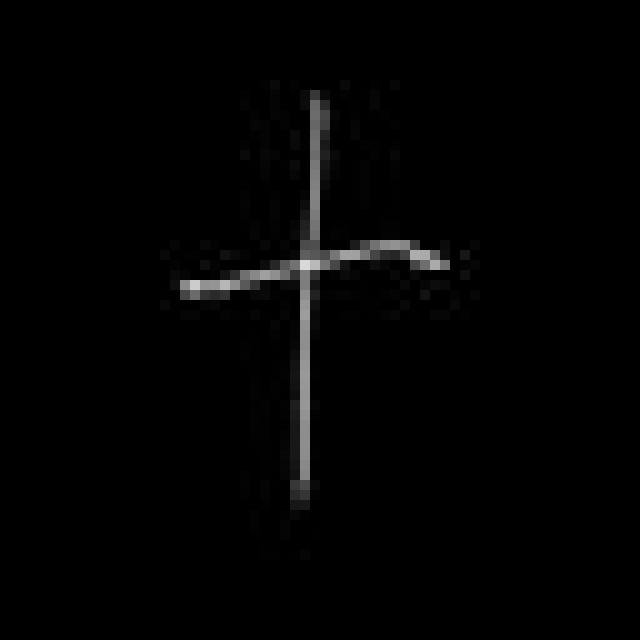10 -ten-: (161, 87, 461, 516)
